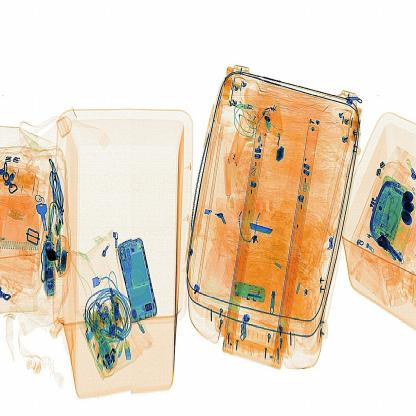scissors: (44, 242, 67, 273)
